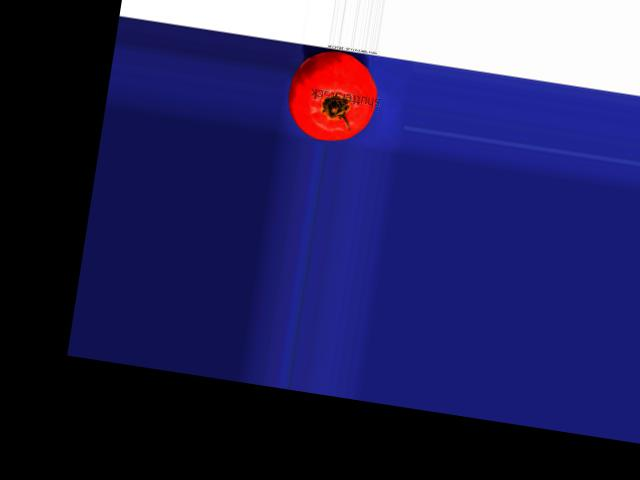tomato: (282, 46, 382, 146)
